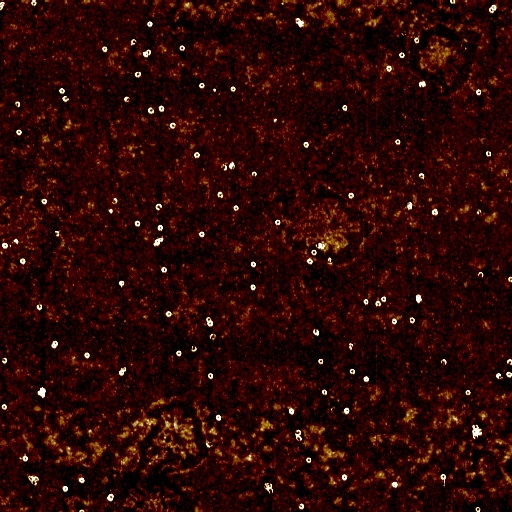-1: (470, 423, 484, 441), (261, 480, 277, 495), (35, 384, 48, 401), (140, 47, 154, 59), (26, 475, 41, 486), (293, 17, 305, 30), (150, 237, 164, 248), (494, 369, 504, 382), (118, 365, 128, 378), (50, 338, 60, 350), (486, 4, 497, 14), (315, 240, 327, 249), (417, 80, 428, 89), (414, 292, 423, 302), (390, 481, 400, 490), (210, 331, 219, 341), (122, 94, 132, 103), (326, 255, 334, 265), (228, 160, 236, 170), (475, 208, 483, 217), (53, 231, 62, 239), (0, 2, 6, 13), (272, 115, 280, 123), (107, 209, 115, 217), (347, 342, 354, 351), (407, 200, 413, 210)
1/4: (205, 441, 214, 448)
2/4: (476, 268, 487, 279), (249, 168, 258, 180), (439, 355, 449, 365), (109, 197, 118, 206), (220, 163, 227, 172), (448, 1, 456, 5)
3/4: (310, 327, 321, 338), (319, 387, 330, 398), (35, 301, 44, 313), (128, 37, 138, 47), (292, 435, 306, 442), (293, 427, 305, 435), (13, 100, 22, 110), (153, 204, 163, 213), (216, 190, 225, 200), (296, 502, 307, 510), (61, 95, 70, 104), (417, 172, 427, 180), (205, 314, 215, 322), (1, 355, 9, 365), (147, 105, 155, 115), (189, 345, 200, 352), (485, 149, 493, 158), (168, 122, 178, 129), (414, 37, 422, 43), (30, 1, 38, 7), (507, 274, 511, 283), (507, 356, 511, 363)
4/4: (105, 492, 118, 503), (249, 281, 259, 293), (173, 348, 185, 358), (163, 309, 174, 319), (0, 241, 11, 251), (197, 230, 207, 241), (83, 350, 92, 362), (397, 50, 407, 60), (347, 366, 357, 376), (340, 472, 350, 482), (206, 371, 216, 381), (77, 475, 87, 485), (18, 256, 28, 266), (191, 151, 202, 160), (362, 374, 371, 384), (316, 355, 325, 365), (0, 403, 10, 412), (430, 208, 441, 216), (159, 265, 170, 273), (385, 64, 394, 73), (380, 293, 389, 302), (361, 296, 370, 305), (342, 406, 351, 415), (287, 407, 296, 416), (439, 472, 448, 481), (215, 413, 224, 422), (304, 456, 314, 464), (473, 504, 483, 512), (207, 321, 217, 329), (155, 225, 165, 233), (340, 103, 348, 112), (301, 141, 310, 149), (391, 315, 399, 324), (273, 218, 281, 227), (306, 256, 314, 265), (464, 388, 472, 397), (22, 454, 31, 462), (133, 221, 142, 229), (158, 104, 166, 113), (38, 199, 48, 206), (133, 71, 143, 78), (145, 20, 155, 27), (347, 192, 355, 200), (250, 260, 258, 268), (14, 129, 22, 137), (178, 44, 186, 52), (310, 248, 319, 255), (63, 484, 70, 493), (233, 204, 240, 213), (198, 82, 207, 89), (506, 367, 511, 379), (409, 315, 417, 322), (119, 280, 126, 288), (101, 46, 109, 53), (229, 86, 237, 93), (58, 87, 66, 94), (395, 138, 402, 145), (476, 89, 483, 95)
